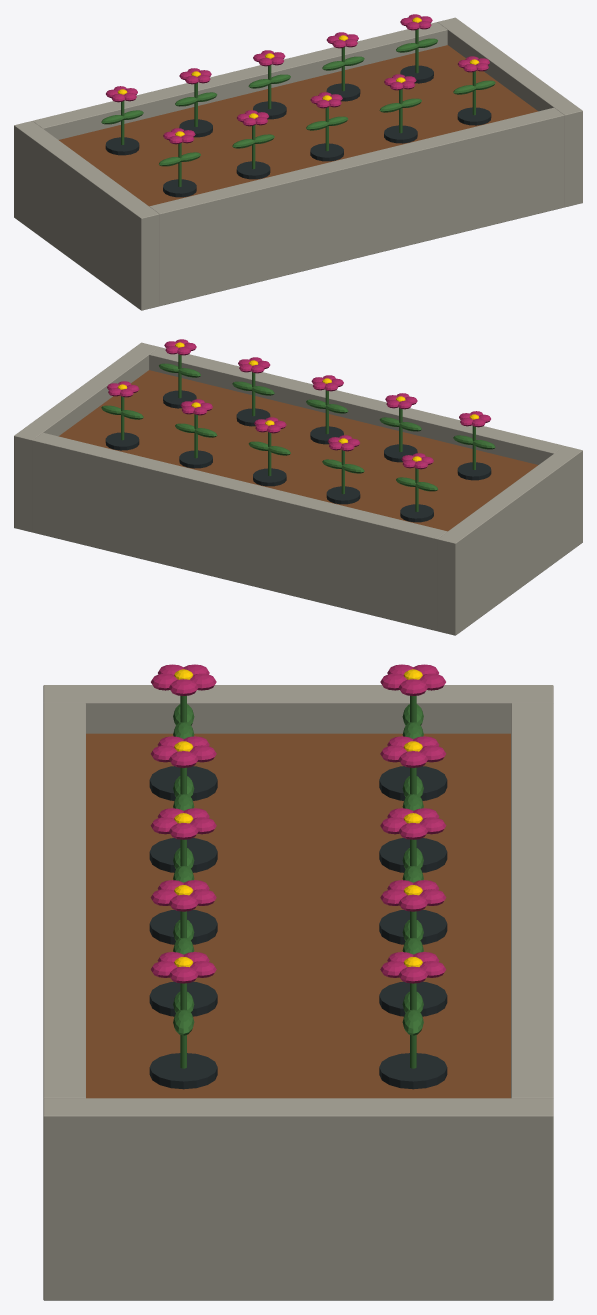
The model's file is flower-bed.glb.
3 renders of one model, top to bottom at view 1: azimuth 30°, elevation 25°; view 2: azimuth 150°, elevation 25°; view 3: azimuth 270°, elevation 25°, orthographic. The views are drawn at different scales.
Visible parts, largest first — view 1: Raised_Border.002, Soil, Raised_Border, Raised_Border.003, Raised_Border.001, Plant_Socket, Plant_Socket.001, Plant_Socket.008, Plant_Socket.002, Plant_Socket.004, Plant_Socket.006, Plant_Socket.007 (+3 smaller); view 2: Raised_Border.003, Soil, Raised_Border, Raised_Border.002, Raised_Border.001, Plant_Socket.001, Plant_Socket, Plant_Socket.009, Plant_Socket.003, Plant_Socket.005, Plant_Socket.007, Plant_Socket.006 (+3 smaller); view 3: Soil, Raised_Border.001, Raised_Border, Raised_Border.002, Raised_Border.003, Plant_Socket.008, Plant_Socket.009, Plant_Socket, Plant_Socket.001, Plant_Socket.006, Plant_Socket.007, Plant_Socket.002 (+3 smaller).
Boxes of the visible parts, <box> form: Raised_Border.002: <box>149,107,564,305</box>; Soil: <box>59,45,538,206</box>; Raised_Border: <box>14,121,159,310</box>; Raised_Border.003: <box>33,22,447,139</box>; Raised_Border.001: <box>437,17,582,207</box>; Plant_Socket: <box>163,179,196,197</box>; Plant_Socket.001: <box>105,137,139,155</box>; Plant_Socket.008: <box>457,107,491,125</box>; Plant_Socket.002: <box>236,161,270,179</box>; Plant_Socket.004: <box>310,143,343,161</box>; Plant_Socket.006: <box>384,125,417,143</box>; Plant_Socket.007: <box>326,83,360,101</box>; Raised_Border.003: <box>32,432,447,630</box>; Soil: <box>58,370,537,531</box>; Raised_Border: <box>437,446,582,635</box>; Raised_Border.002: <box>149,347,563,464</box>; Raised_Border.001: <box>14,342,159,532</box>; Plant_Socket.001: <box>400,504,433,522</box>; Plant_Socket: <box>457,462,491,480</box>; Plant_Socket.009: <box>105,432,139,450</box>; Plant_Socket.003: <box>326,486,360,504</box>; Plant_Socket.005: <box>253,468,286,486</box>; Plant_Socket.007: <box>179,450,212,468</box>; Plant_Socket.006: <box>236,408,270,426</box>; Soil: <box>86,733,510,1098</box>; Raised_Border.001: <box>43,1098,553,1300</box>; Raised_Border: <box>43,685,553,733</box>; Raised_Border.002: <box>43,703,85,1098</box>; Raised_Border.003: <box>511,703,553,1098</box>; Plant_Socket.008: <box>149,1053,217,1089</box>; Plant_Socket.009: <box>379,1053,447,1089</box>; Plant_Socket: <box>149,766,217,800</box>; Plant_Socket.001: <box>379,766,447,800</box>; Plant_Socket.006: <box>149,981,217,1016</box>; Plant_Socket.007: <box>379,981,447,1016</box>; Plant_Socket.002: <box>149,838,217,872</box>.
Bounding box in the file's own units: 2.4 × 0.703 × 1.2.
